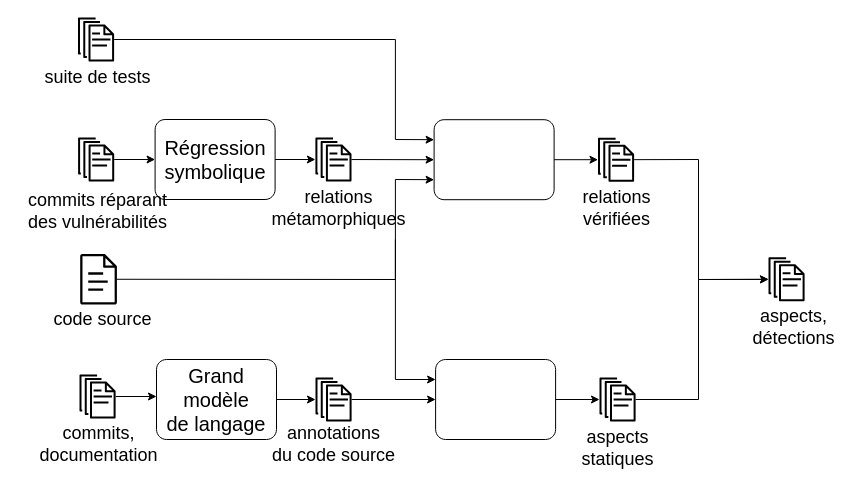
Image size: 865x495. Some labels were removed from this diagram. The centre of each missing label's shape, as x and y in pixels:
"SAGA" goes at point 495,399.
"Test méta-morphique + AIM" goes at point 493,159.
